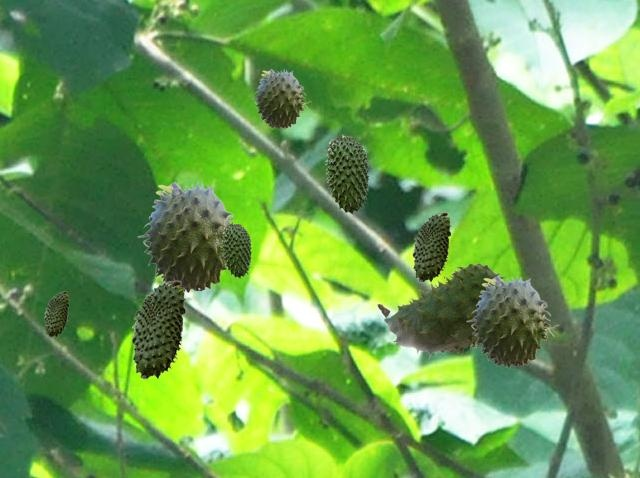guyabano: (377, 263, 508, 358), (137, 180, 234, 292), (466, 274, 558, 367), (131, 280, 185, 378), (251, 68, 310, 128), (325, 134, 369, 213), (412, 212, 450, 281), (221, 222, 251, 277), (44, 291, 68, 336)
